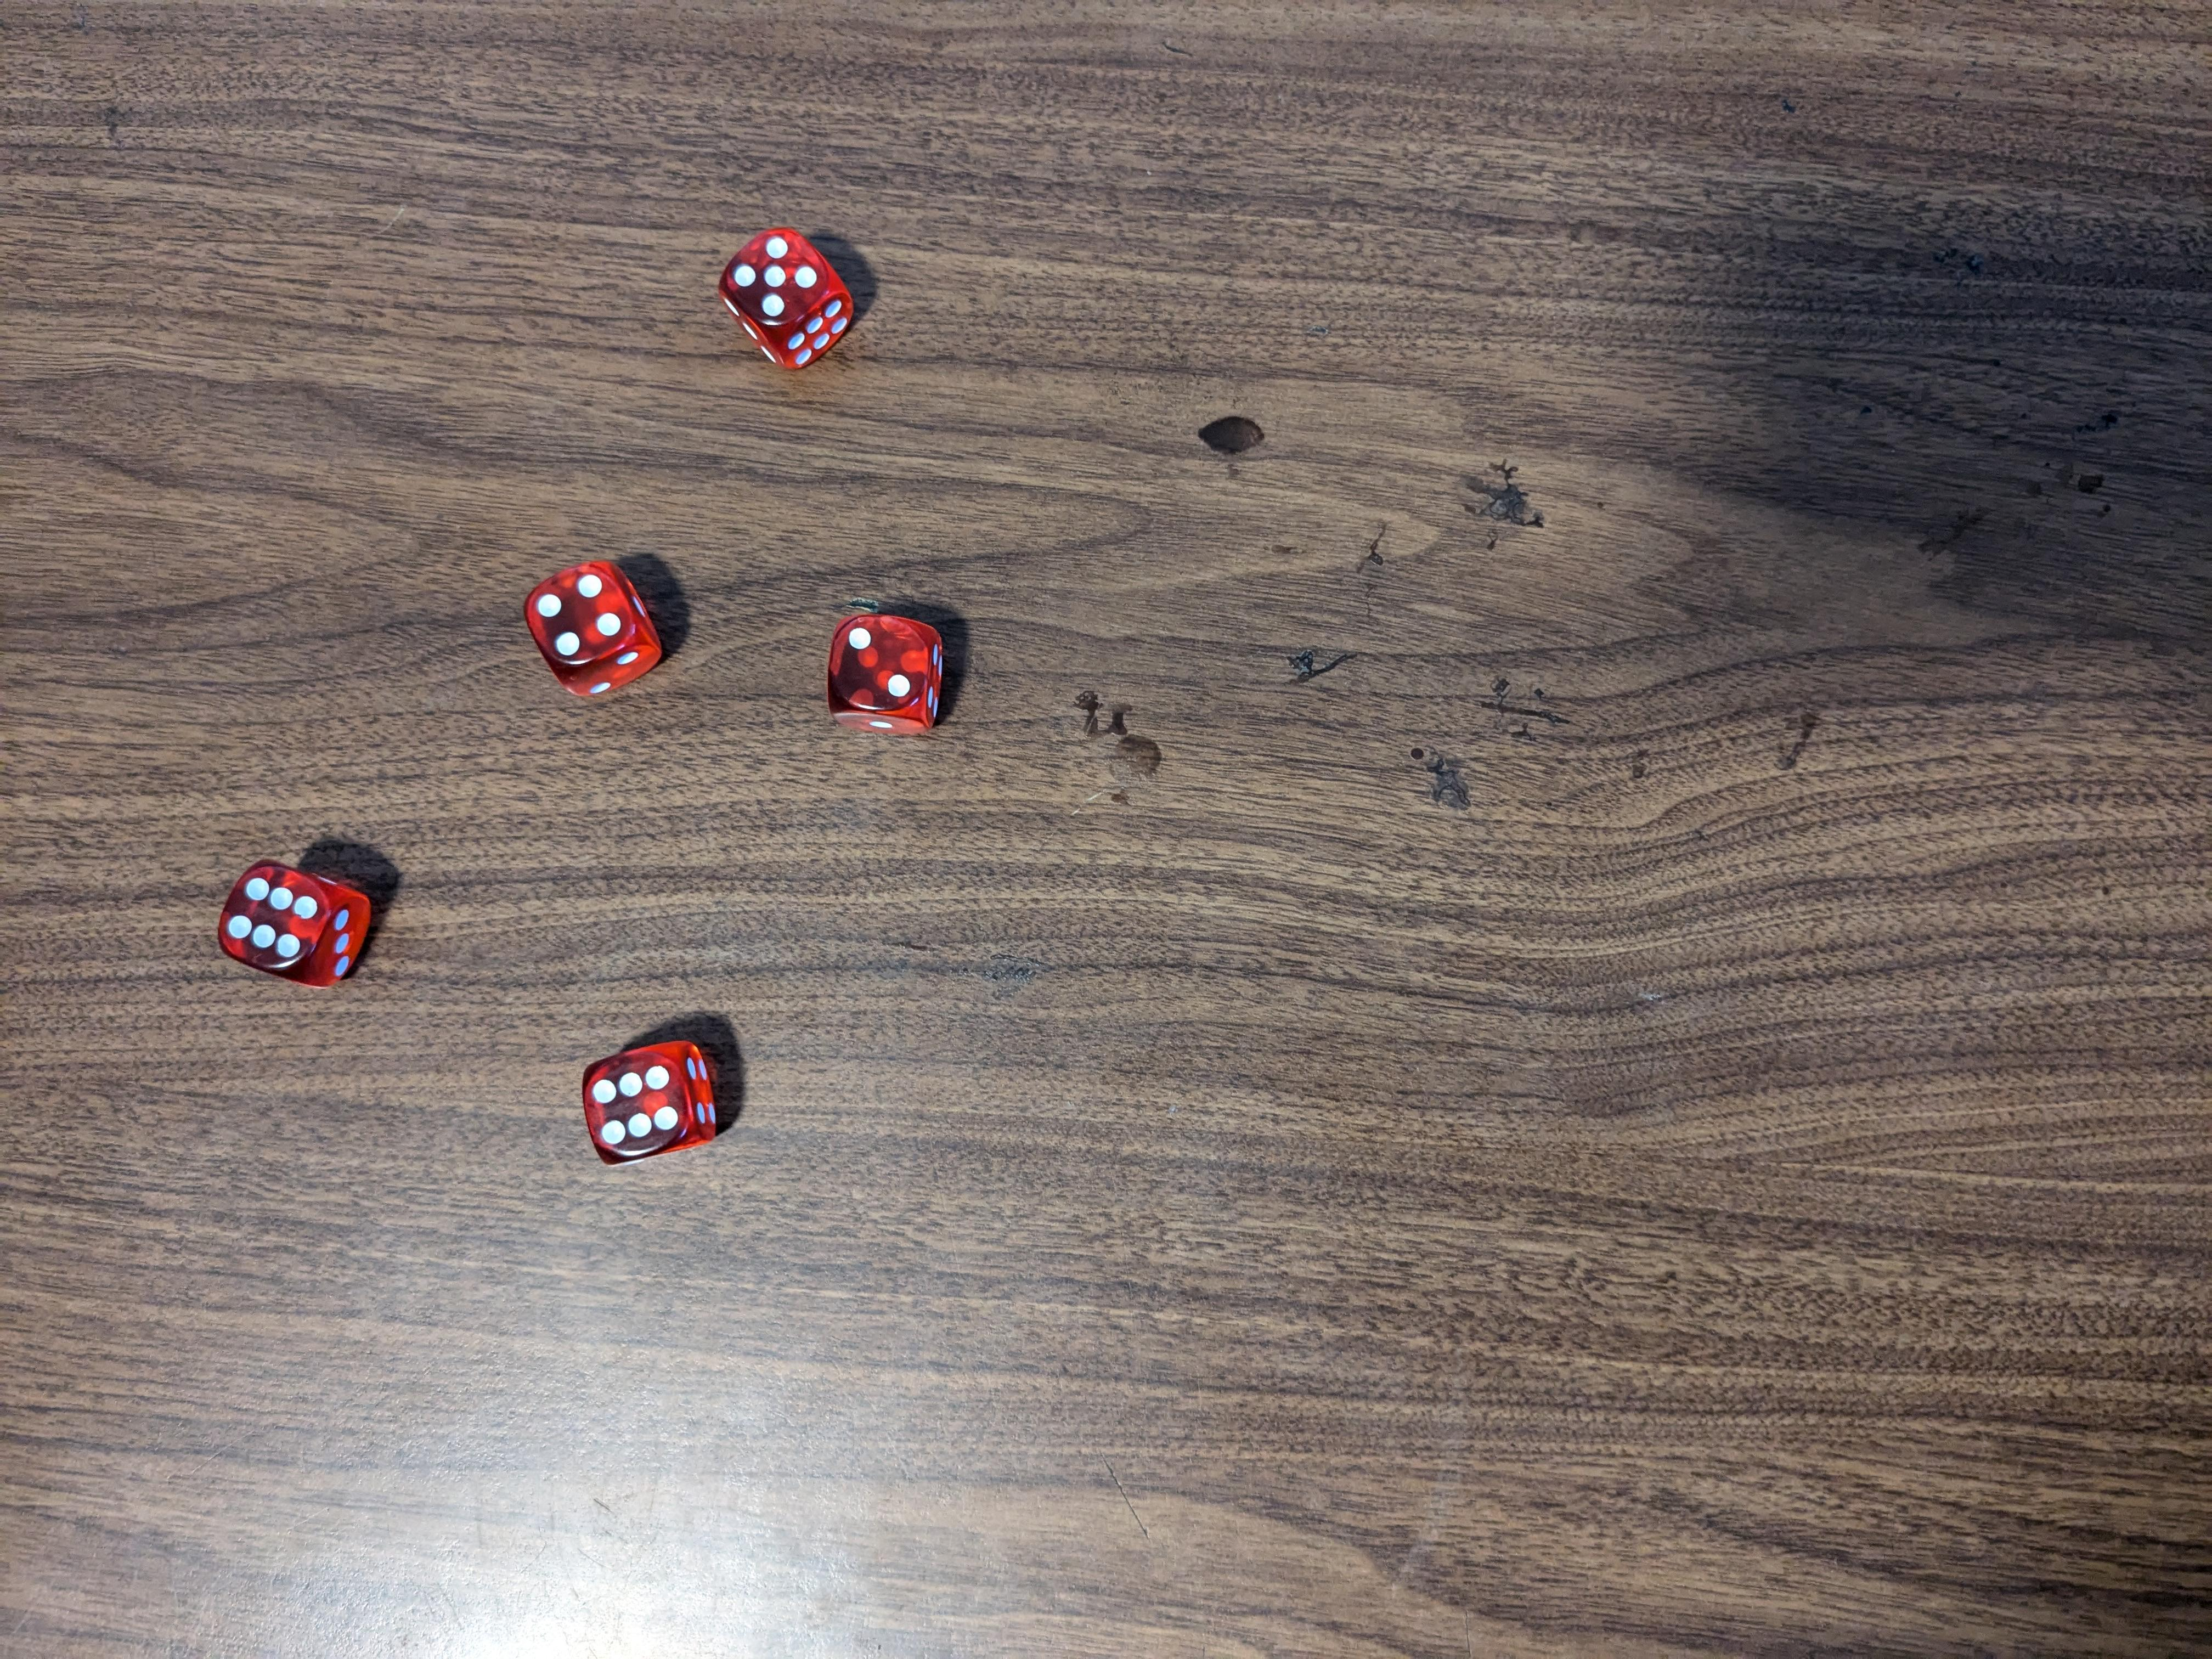five: (721, 227, 857, 371)
four: (514, 559, 674, 704)
six: (209, 861, 381, 990), (580, 1035, 728, 1168)
two: (827, 617, 954, 727)
